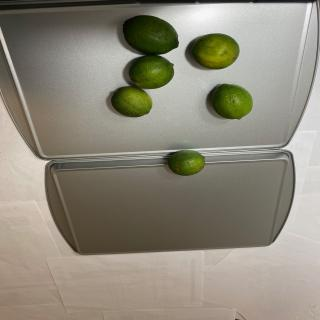Lemon: (122, 15, 179, 55), (191, 33, 240, 69), (128, 55, 174, 89), (211, 83, 253, 120), (110, 86, 152, 117), (168, 149, 205, 176)
